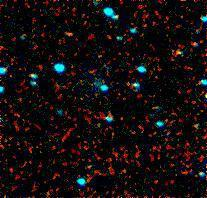star: (55, 20, 85, 50)
